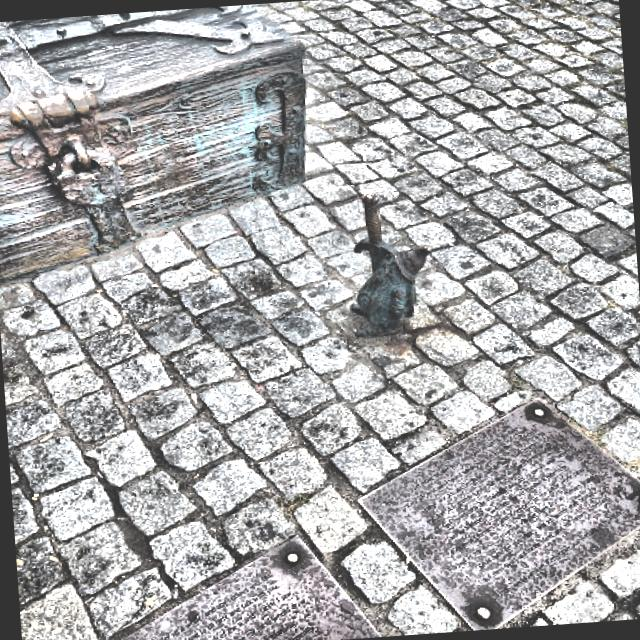Giermek_Grun-Waldek: (352, 197, 424, 331)
